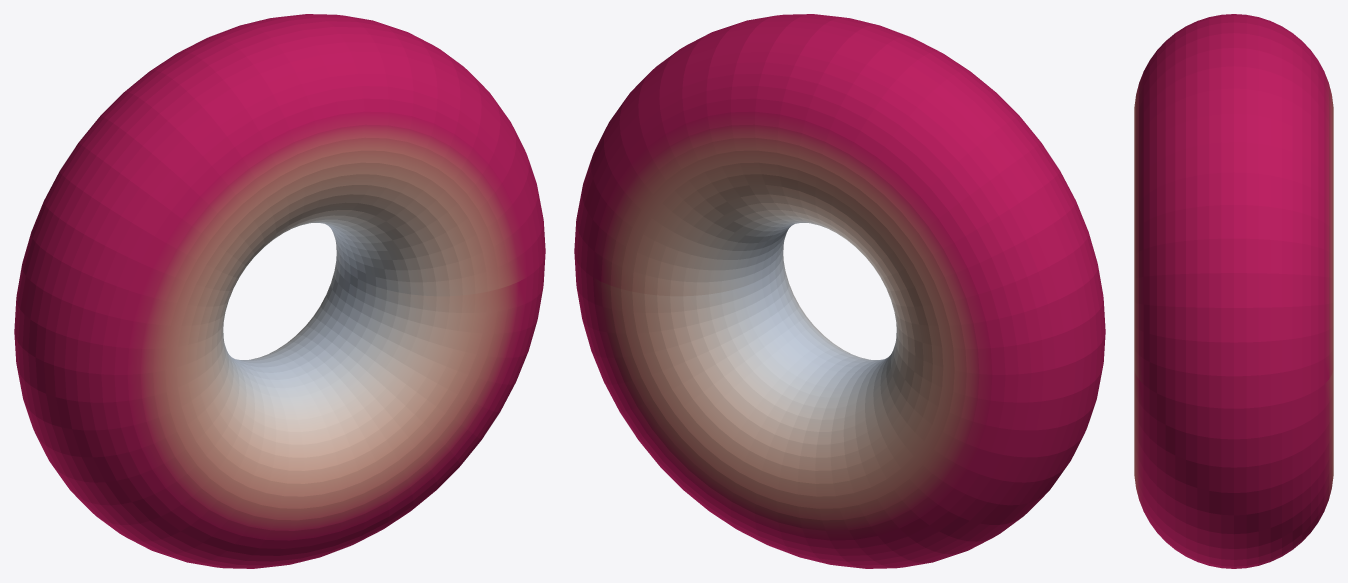
3 renders of one model, left to right at view 1: azimuth 30°, elevation 25°; view 2: azimuth 150°, elevation 25°; view 3: azimuth 270°, elevation 25°, orthographic. The views are drawn at different scales.
Parts seen in each view (by area): view 1: world; view 2: world; view 3: world.
Part boxes in pixels (x1=…): world: x1=14, y1=14, x2=545, y2=568; world: x1=574, y1=14, x2=1105, y2=568; world: x1=1134, y1=14, x2=1333, y2=568.
Size of the model in its own units: 27.07 by 27.01 by 9.71.
